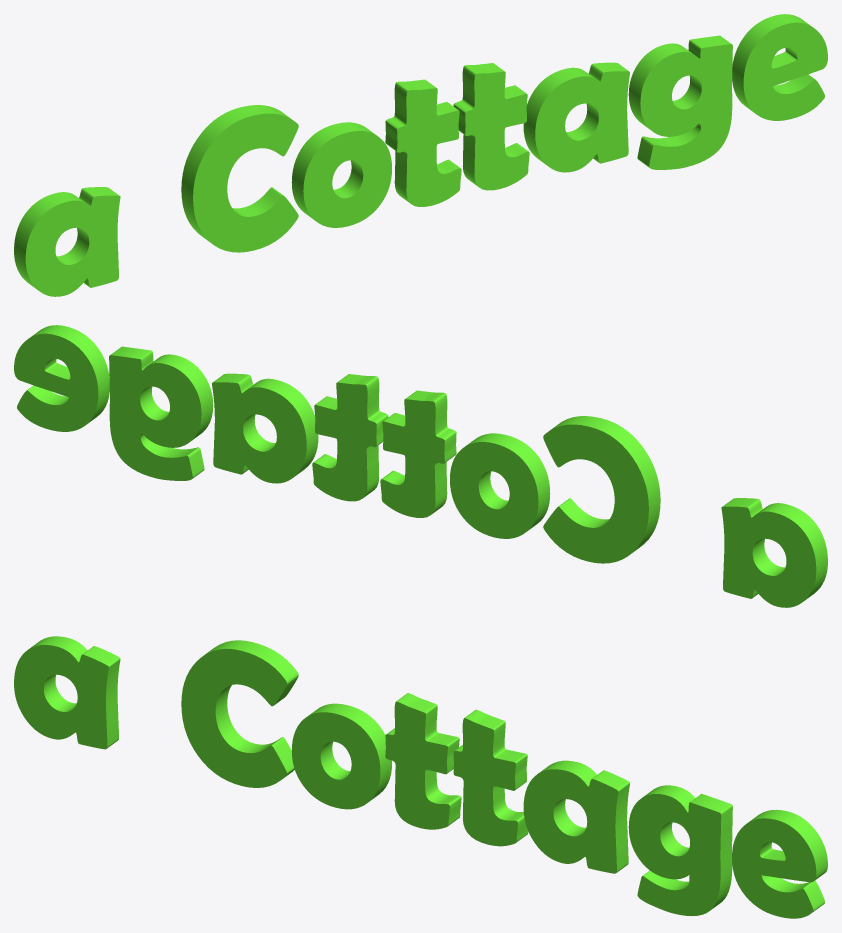
File: Title_C.FBX
3 views of the same model, one above another, from view 1: azimuth 30°, elevation 25°; view 2: azimuth 150°, elevation 25°; view 3: azimuth 330°, elevation 25° (orthographic).
Parts seen in each view (by area): view 1: Text003; view 2: Text003; view 3: Text003.
Boxes of the visible parts, bbox=[...] form: Text003: bbox=[14, 14, 827, 296]; Text003: bbox=[14, 325, 827, 607]; Text003: bbox=[14, 636, 827, 918].
Size of the model in its own units: 91.65 by 17.18 by 2.31.
